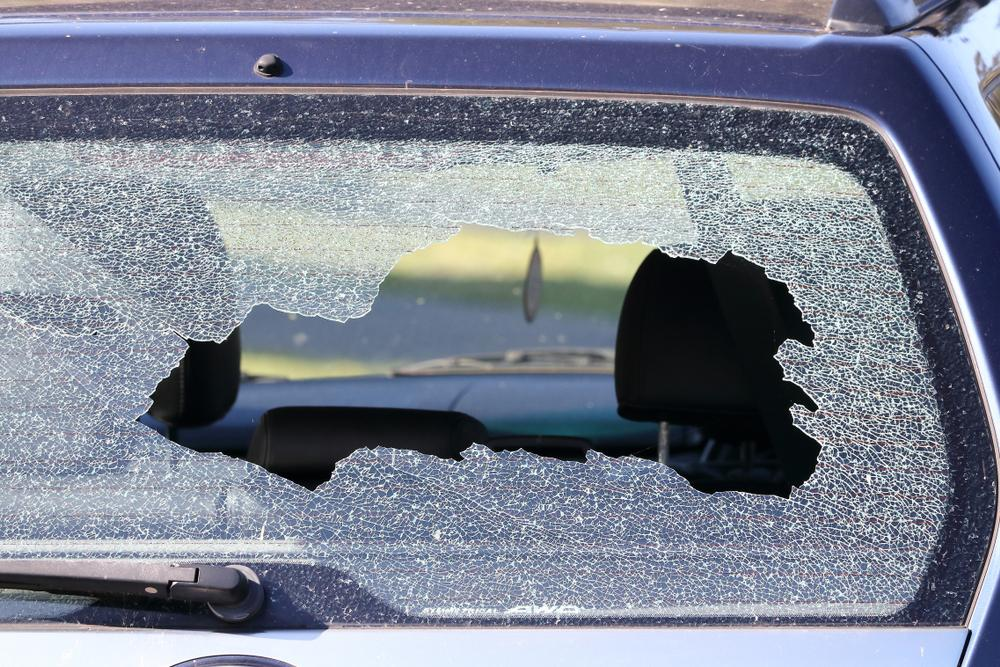glass shatter: (0, 93, 997, 628)
